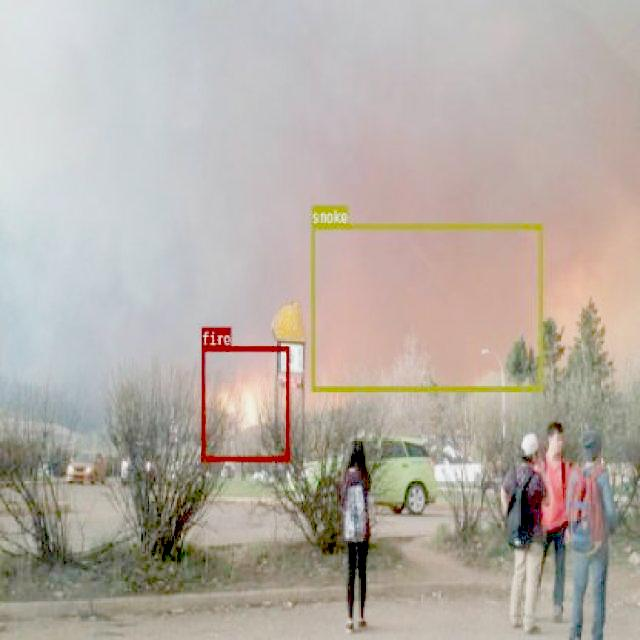fire: (202, 346, 290, 460)
smoke: (310, 223, 542, 391)
